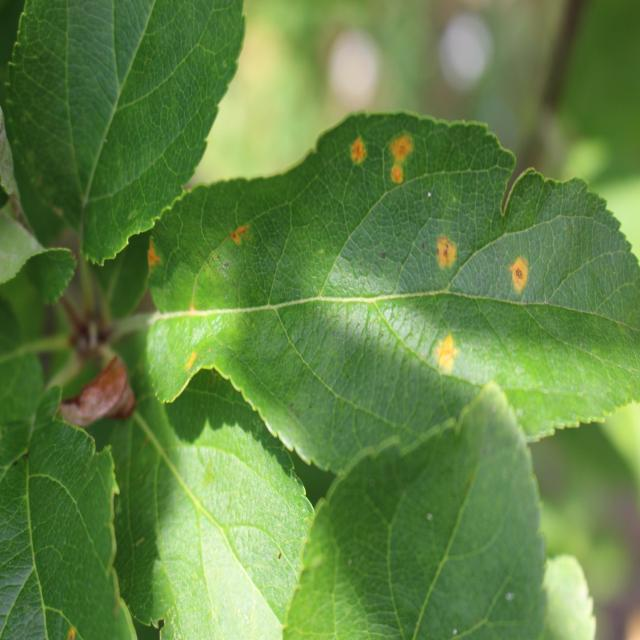Rust: (425, 305, 461, 384), (345, 126, 376, 190), (430, 225, 466, 279), (506, 246, 532, 312), (380, 120, 418, 164), (220, 222, 263, 258), (142, 229, 162, 287), (384, 163, 415, 195), (184, 343, 201, 373)
